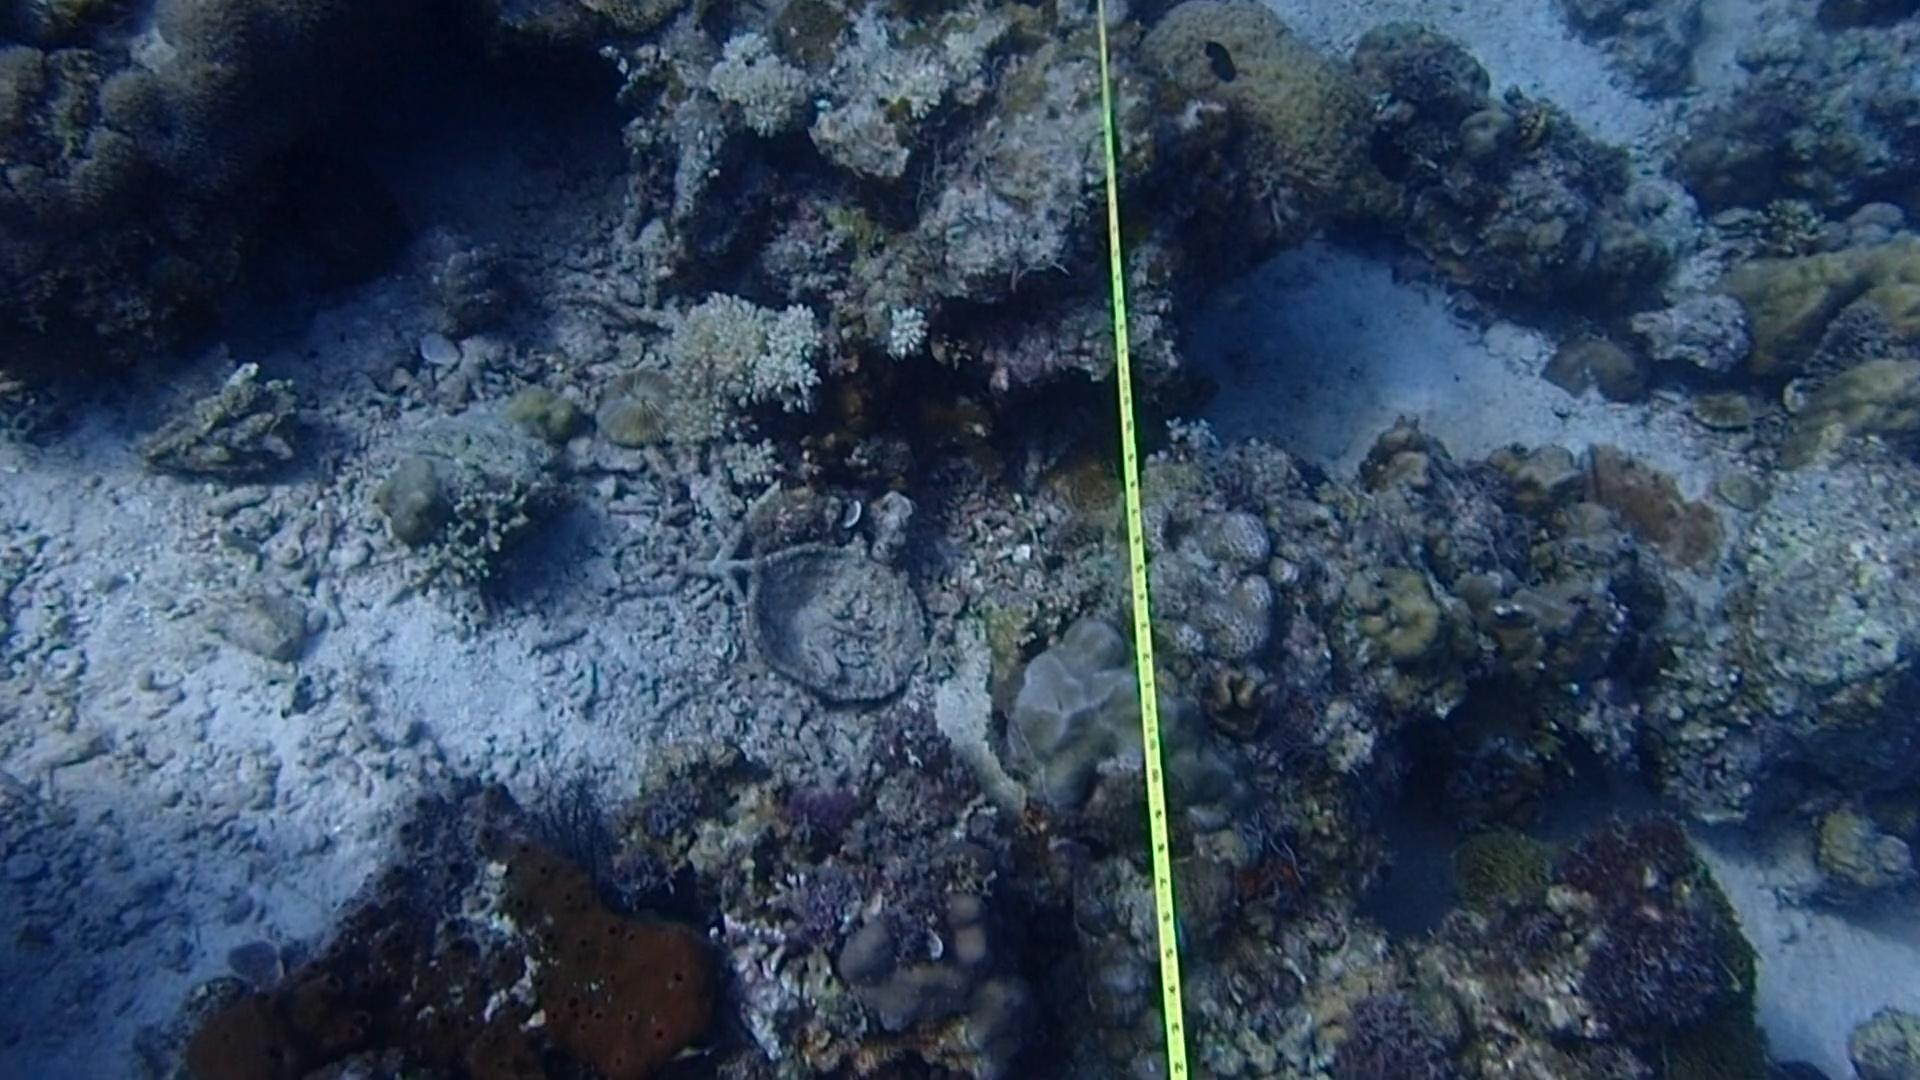Dark Fish: (1531, 708, 1615, 803), (1358, 123, 1416, 191), (1196, 30, 1245, 92)
